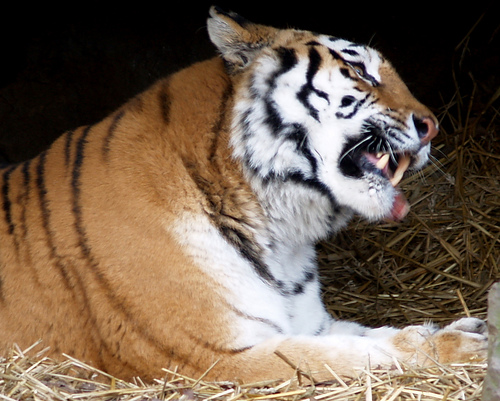Tigre: (59, 32, 465, 351)
